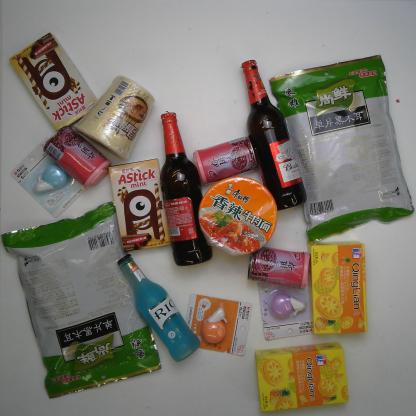Alcohol: (242, 60, 306, 212), (116, 254, 200, 362), (160, 112, 213, 265)
Canned Food: (44, 125, 109, 188), (193, 135, 258, 185), (248, 243, 310, 290)
Dessert: (10, 33, 99, 130), (256, 342, 350, 412), (108, 158, 172, 252), (308, 242, 366, 335)
Dried Food: (0, 202, 161, 398), (270, 56, 414, 242)
Instant Noodles: (74, 75, 156, 161), (199, 177, 278, 256)
Stationery: (11, 136, 90, 218), (258, 268, 328, 340), (183, 294, 252, 355)
